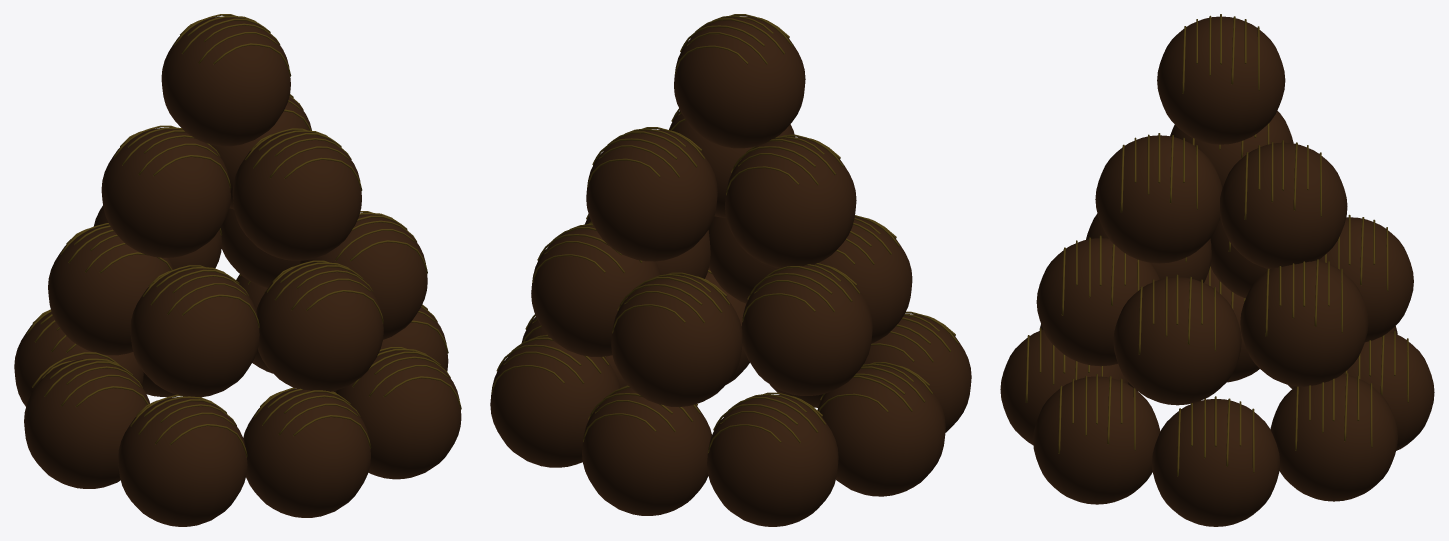
File: ChocBallsTextured.fbx
The picture shows the model from 3 angles, left to right: view 1: azimuth 30°, elevation 25°; view 2: azimuth 150°, elevation 25°; view 3: azimuth 270°, elevation 25°; orthographic projection. The views are drawn at different scales.
Visible parts, largest first — view 1: polySurface1642 (×2); view 2: polySurface1642 (×2); view 3: polySurface1642 (×2).
Boxes of the visible parts, x1,y1,x2,y2 form: polySurface1642 (×2): [14, 14, 461, 526]; polySurface1642 (×2): [490, 14, 971, 526]; polySurface1642 (×2): [1000, 14, 1434, 526].
Size of the model in its own units: 4.21 by 4.3 by 3.97.
